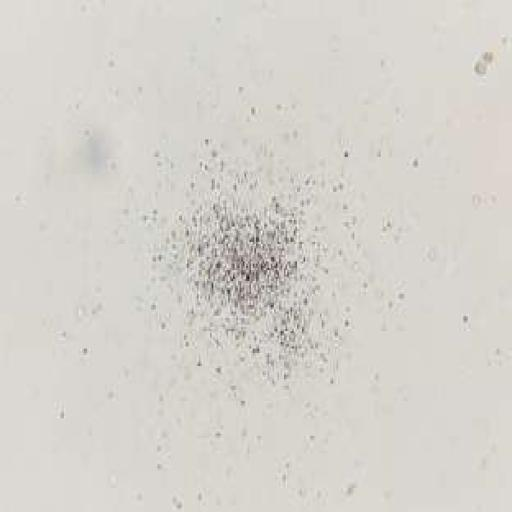CFU-GM: (185, 198, 313, 357)
